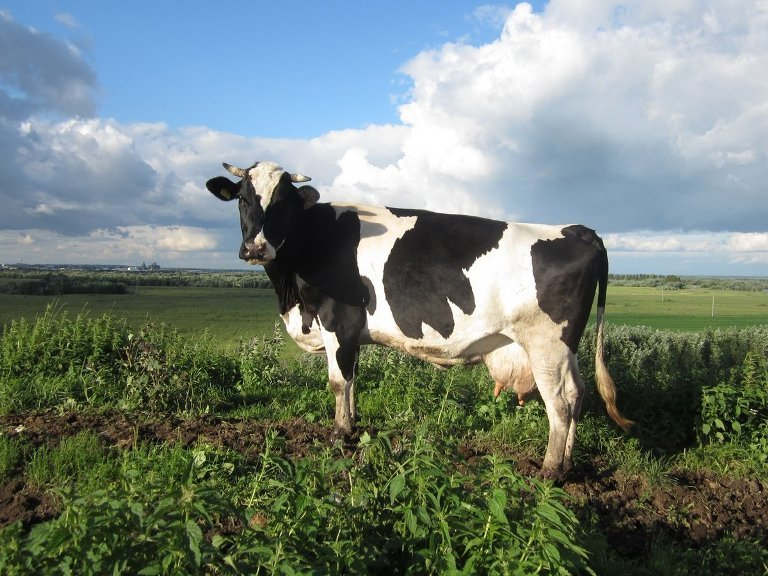cow: (197, 160, 655, 488)
